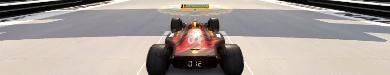Car: (145, 17, 244, 74)
Solid White and black: (180, 3, 209, 8)
